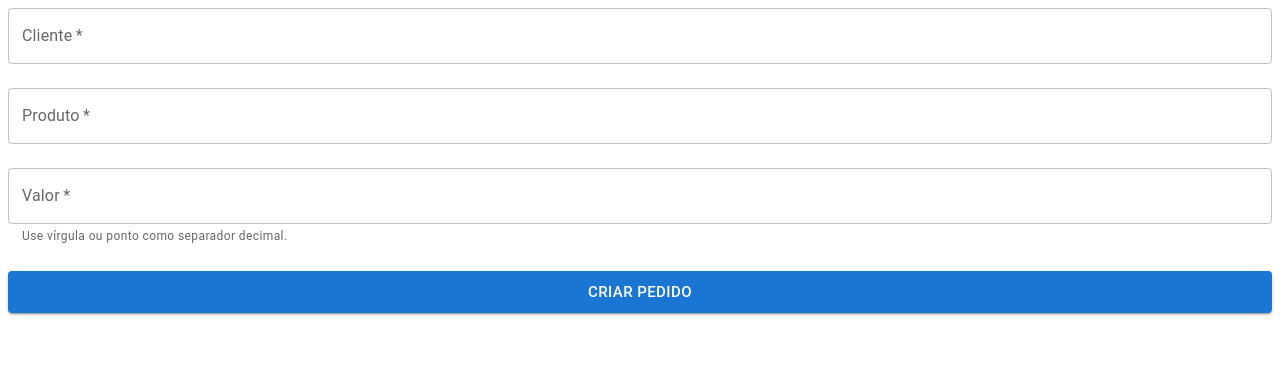
Scenario: OrderForm › shows an error next to each invalid field
What coordinates should you click on to do the following:
click the button "Criar pedido"
I would click on:
 (640, 292)
Its box is [8, 271, 1272, 313].
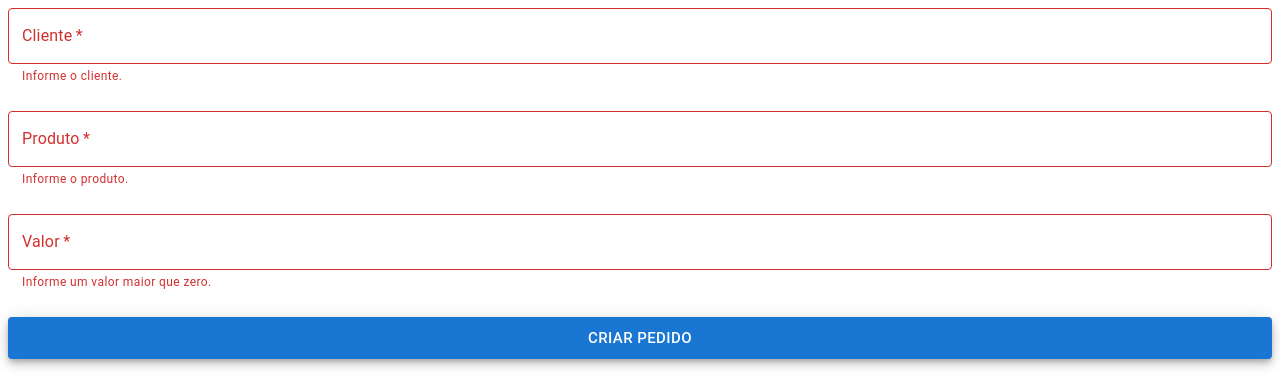
Result: the text "Informe o cliente." is shown at [22, 69, 122, 83]
Result: the text "Informe o produto." is shown at [22, 172, 129, 186]
Result: the text "Informe um valor maior que zero." is shown at [22, 275, 212, 289]
